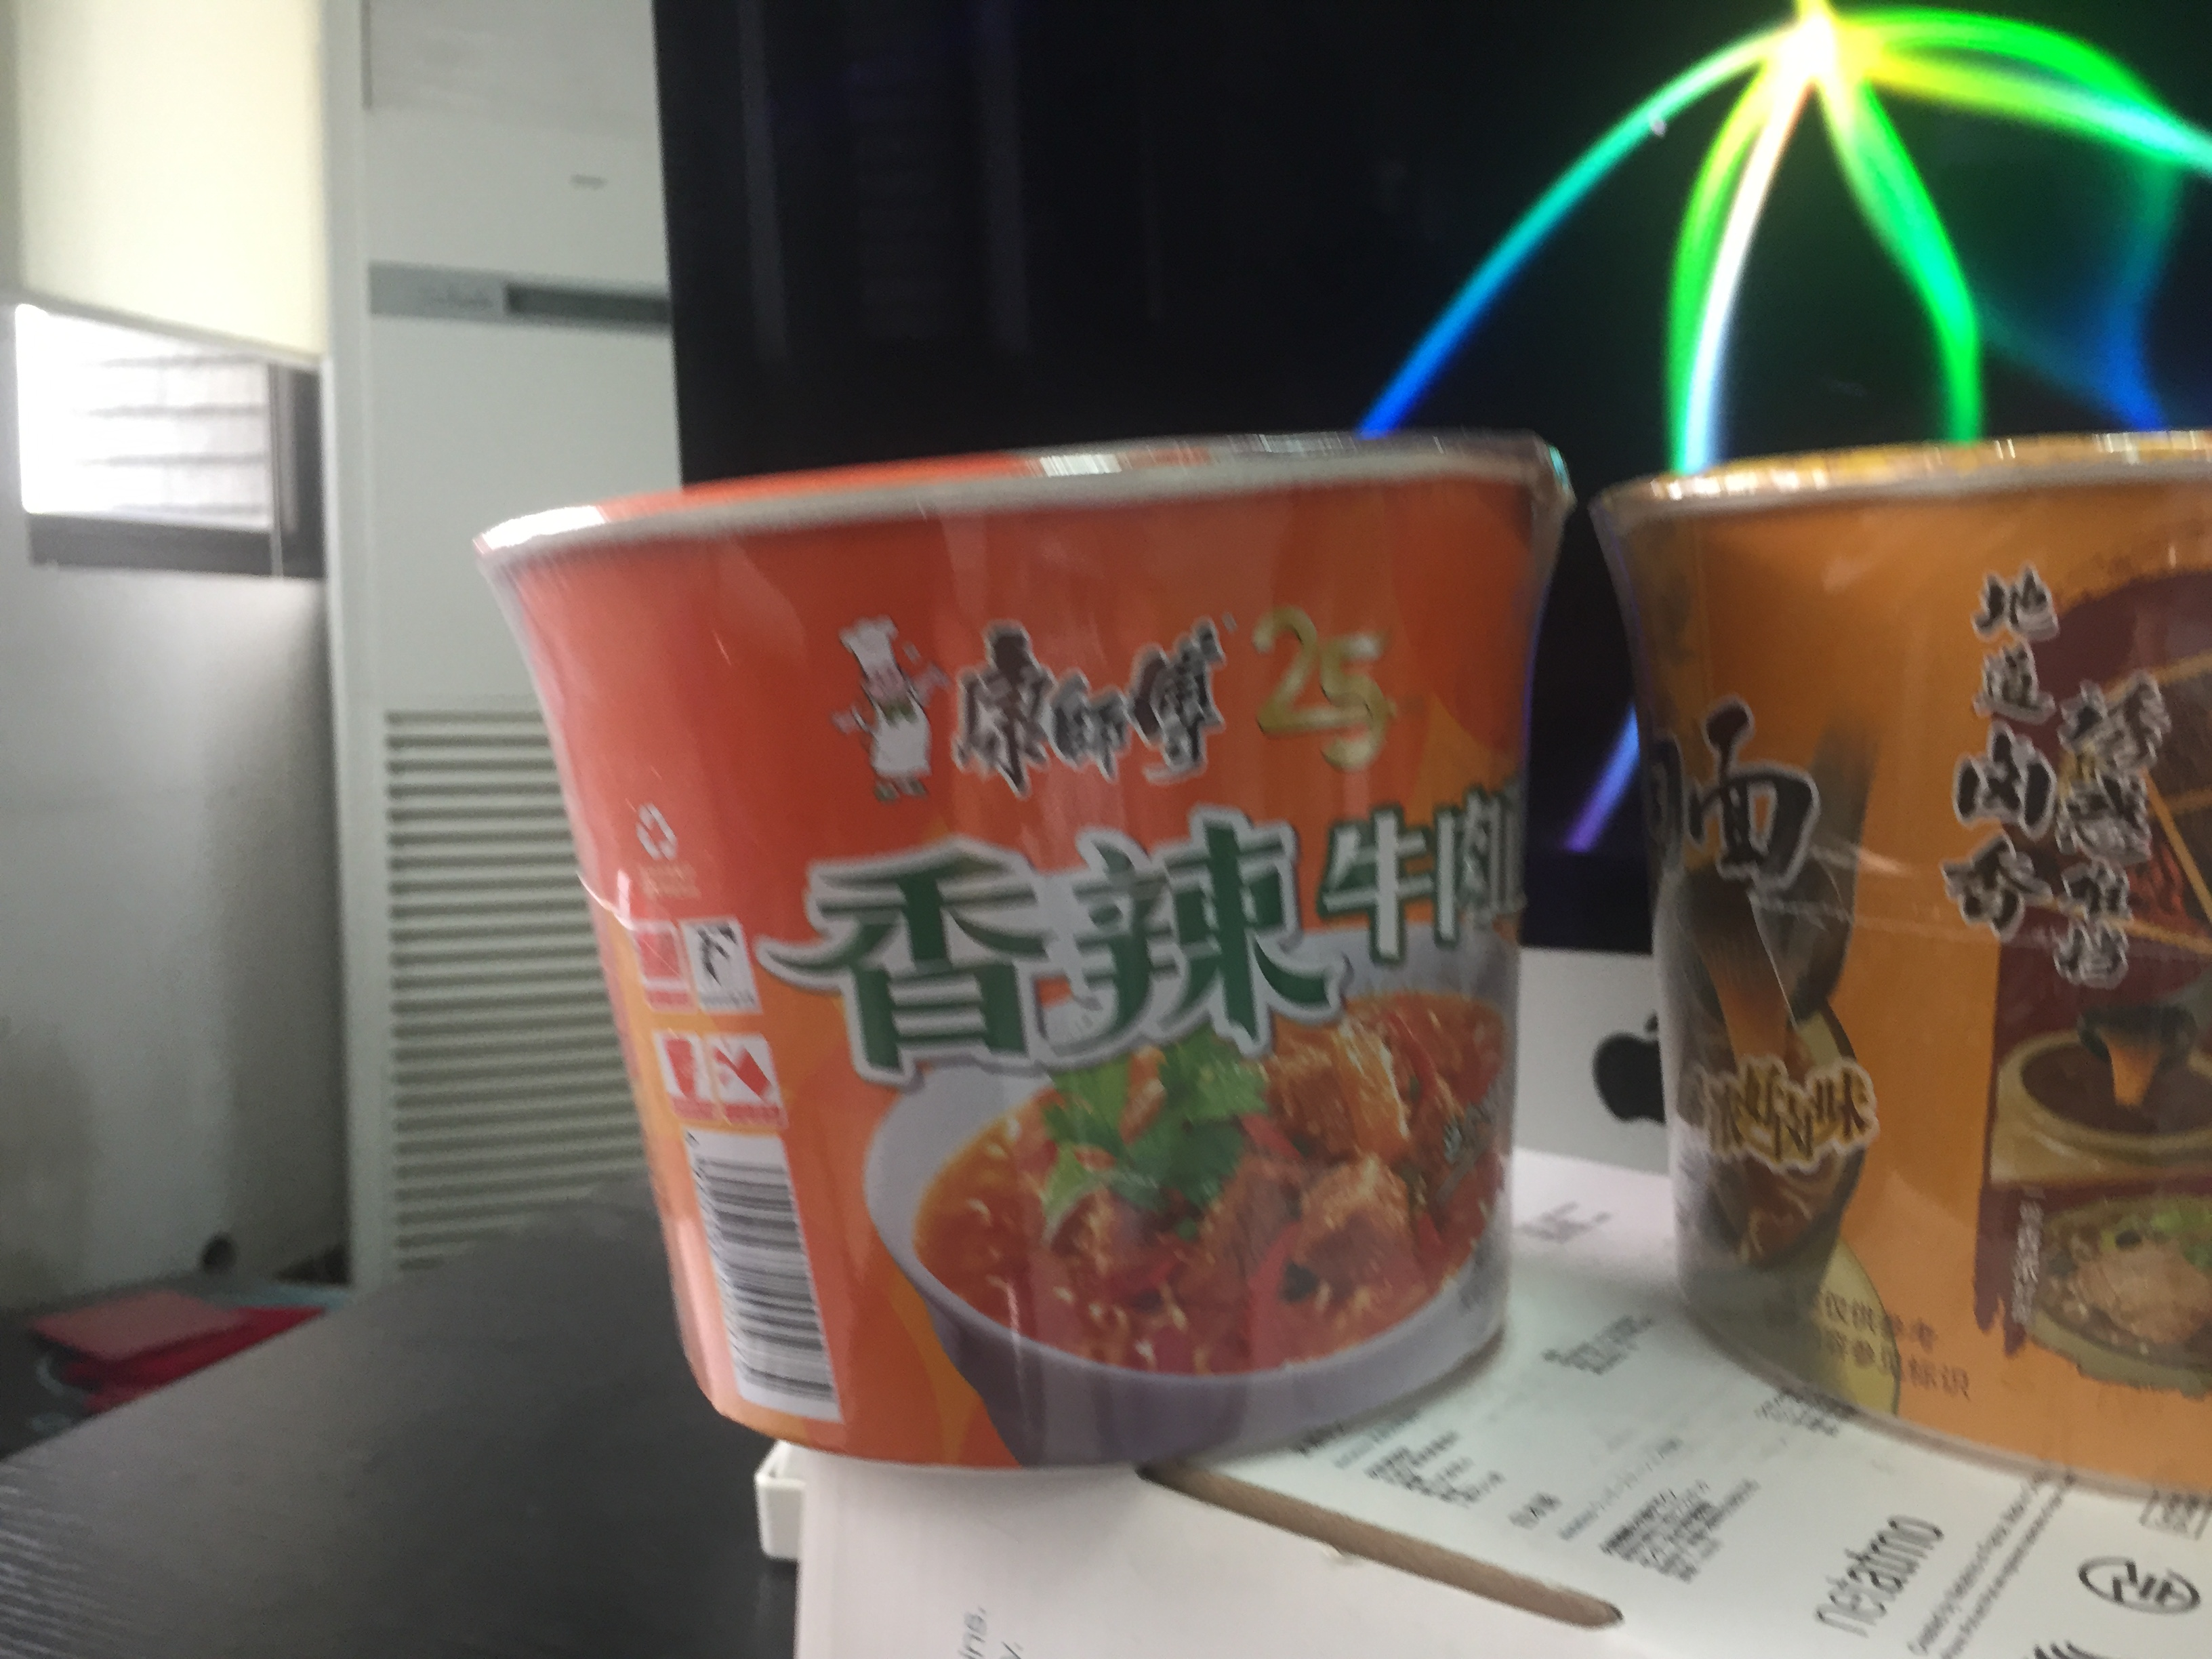luxiang: (1585, 425, 2212, 1520)
xiangla: (470, 436, 1580, 1473)
